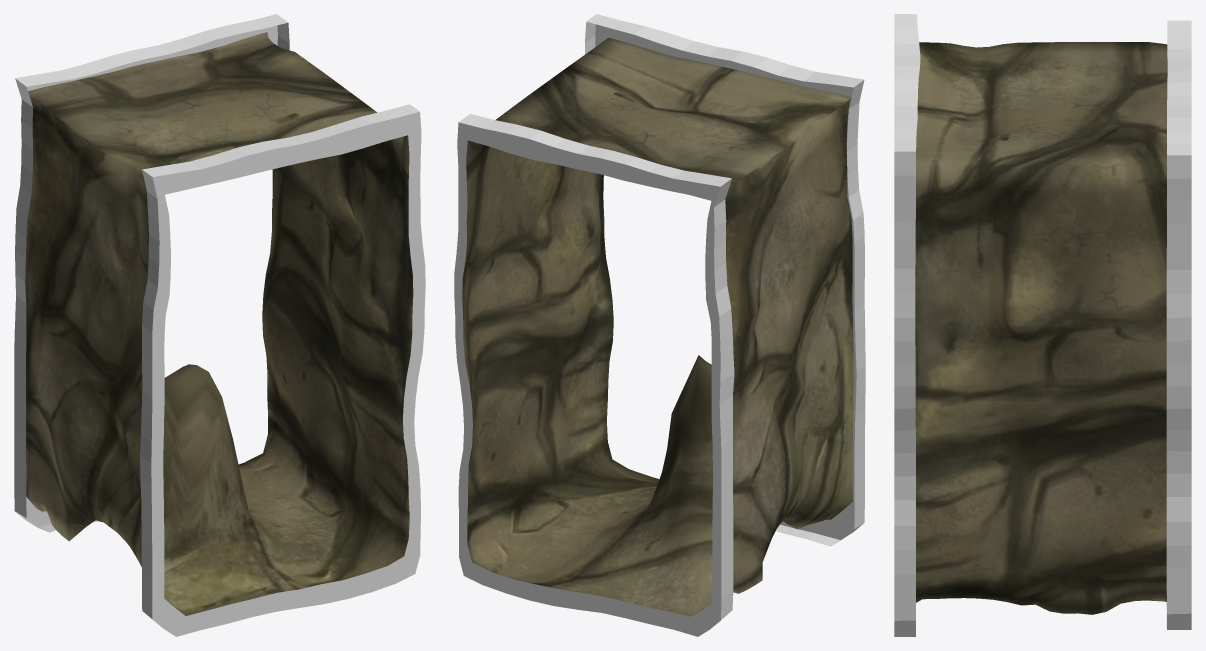
The model's file is cave module 6.fbx.
3 views of the same model, side by side, from view 1: azimuth 30°, elevation 25°; view 2: azimuth 150°, elevation 25°; view 3: azimuth 270°, elevation 25° (orthographic). The views are drawn at different scales.
Visible parts, largest first — view 1: Plane.6; view 2: Plane.6; view 3: Plane.6.
Part boxes in pixels (bbox=[...]): Plane.6: bbox=[14, 14, 425, 636]; Plane.6: bbox=[454, 14, 865, 636]; Plane.6: bbox=[894, 14, 1191, 636].
Size of the model in its own units: 680 by 1106 by 600.
